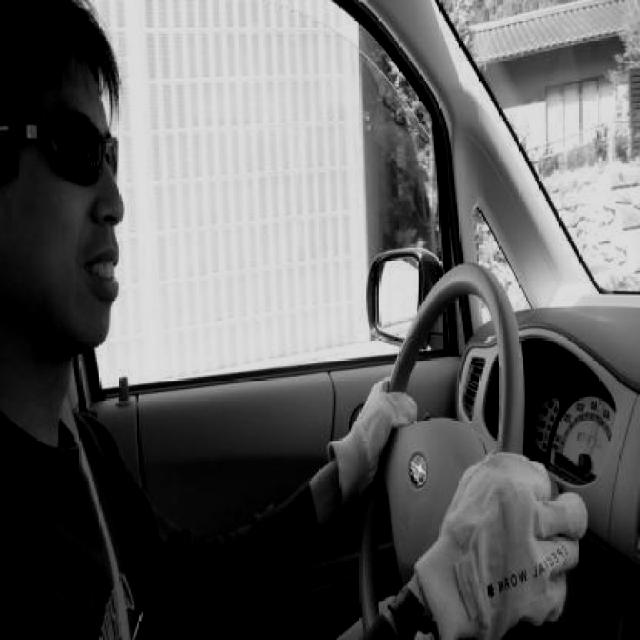face_nomask: (29, 118, 140, 316)
glasses: (12, 99, 116, 198)
hand_glove: (420, 448, 598, 638), (319, 374, 427, 494)
head_nohelmet: (0, 4, 123, 81)
